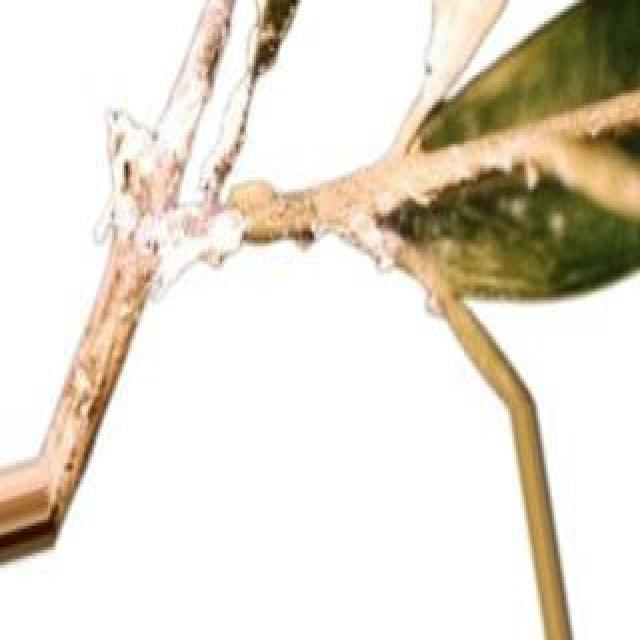Psyllid: (94, 24, 272, 294)
